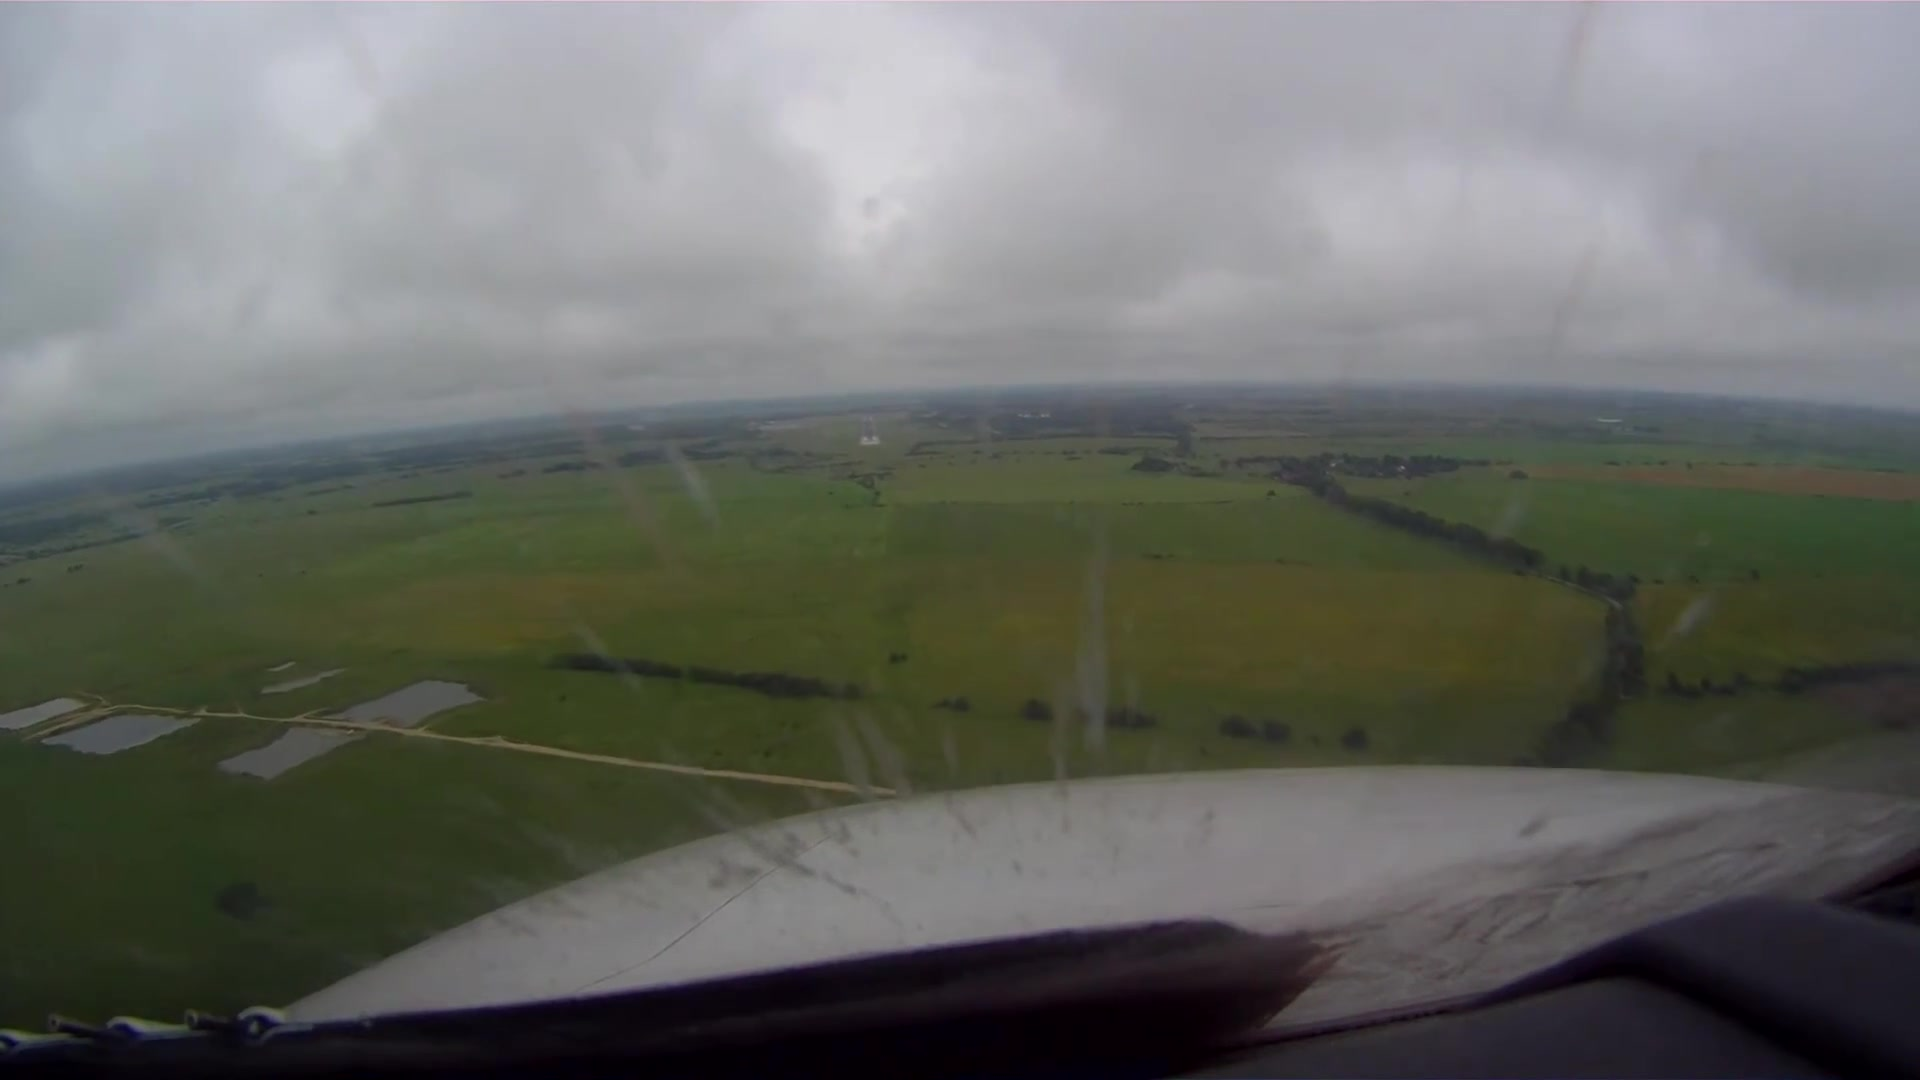runway: (857, 411, 882, 447)
